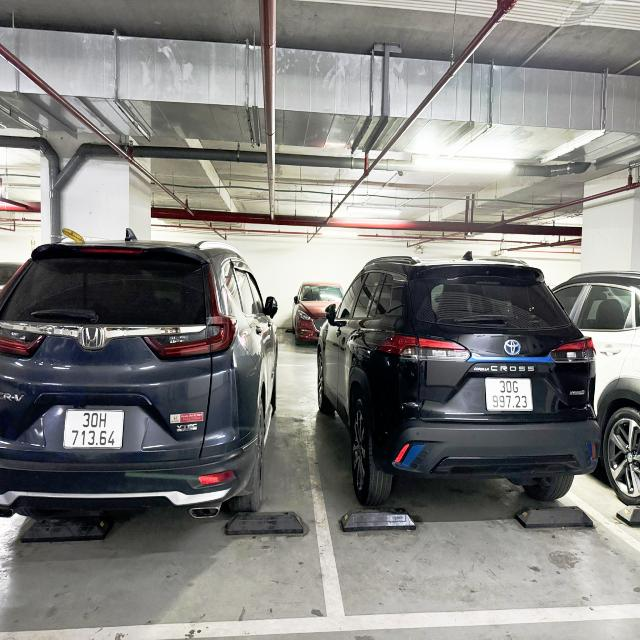license_plate: (61, 408, 127, 452), (484, 377, 536, 413)
